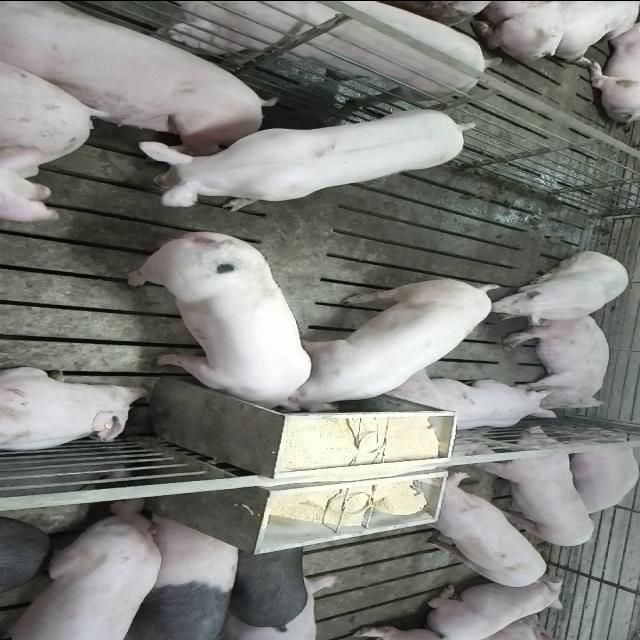Feeding: (120, 242, 312, 418), (278, 276, 503, 410)
Lateral_lying: (0, 0, 277, 142), (501, 312, 611, 409)
Sitting: (488, 250, 633, 324)
Standing: (149, 0, 508, 104), (135, 106, 483, 210), (0, 498, 165, 638), (404, 472, 548, 588), (113, 511, 244, 638), (472, 423, 600, 548), (222, 540, 308, 634), (2, 146, 62, 226), (0, 516, 50, 606)
Sternal_lying: (0, 364, 150, 454), (380, 372, 560, 432), (418, 578, 568, 638), (557, 434, 637, 515)
